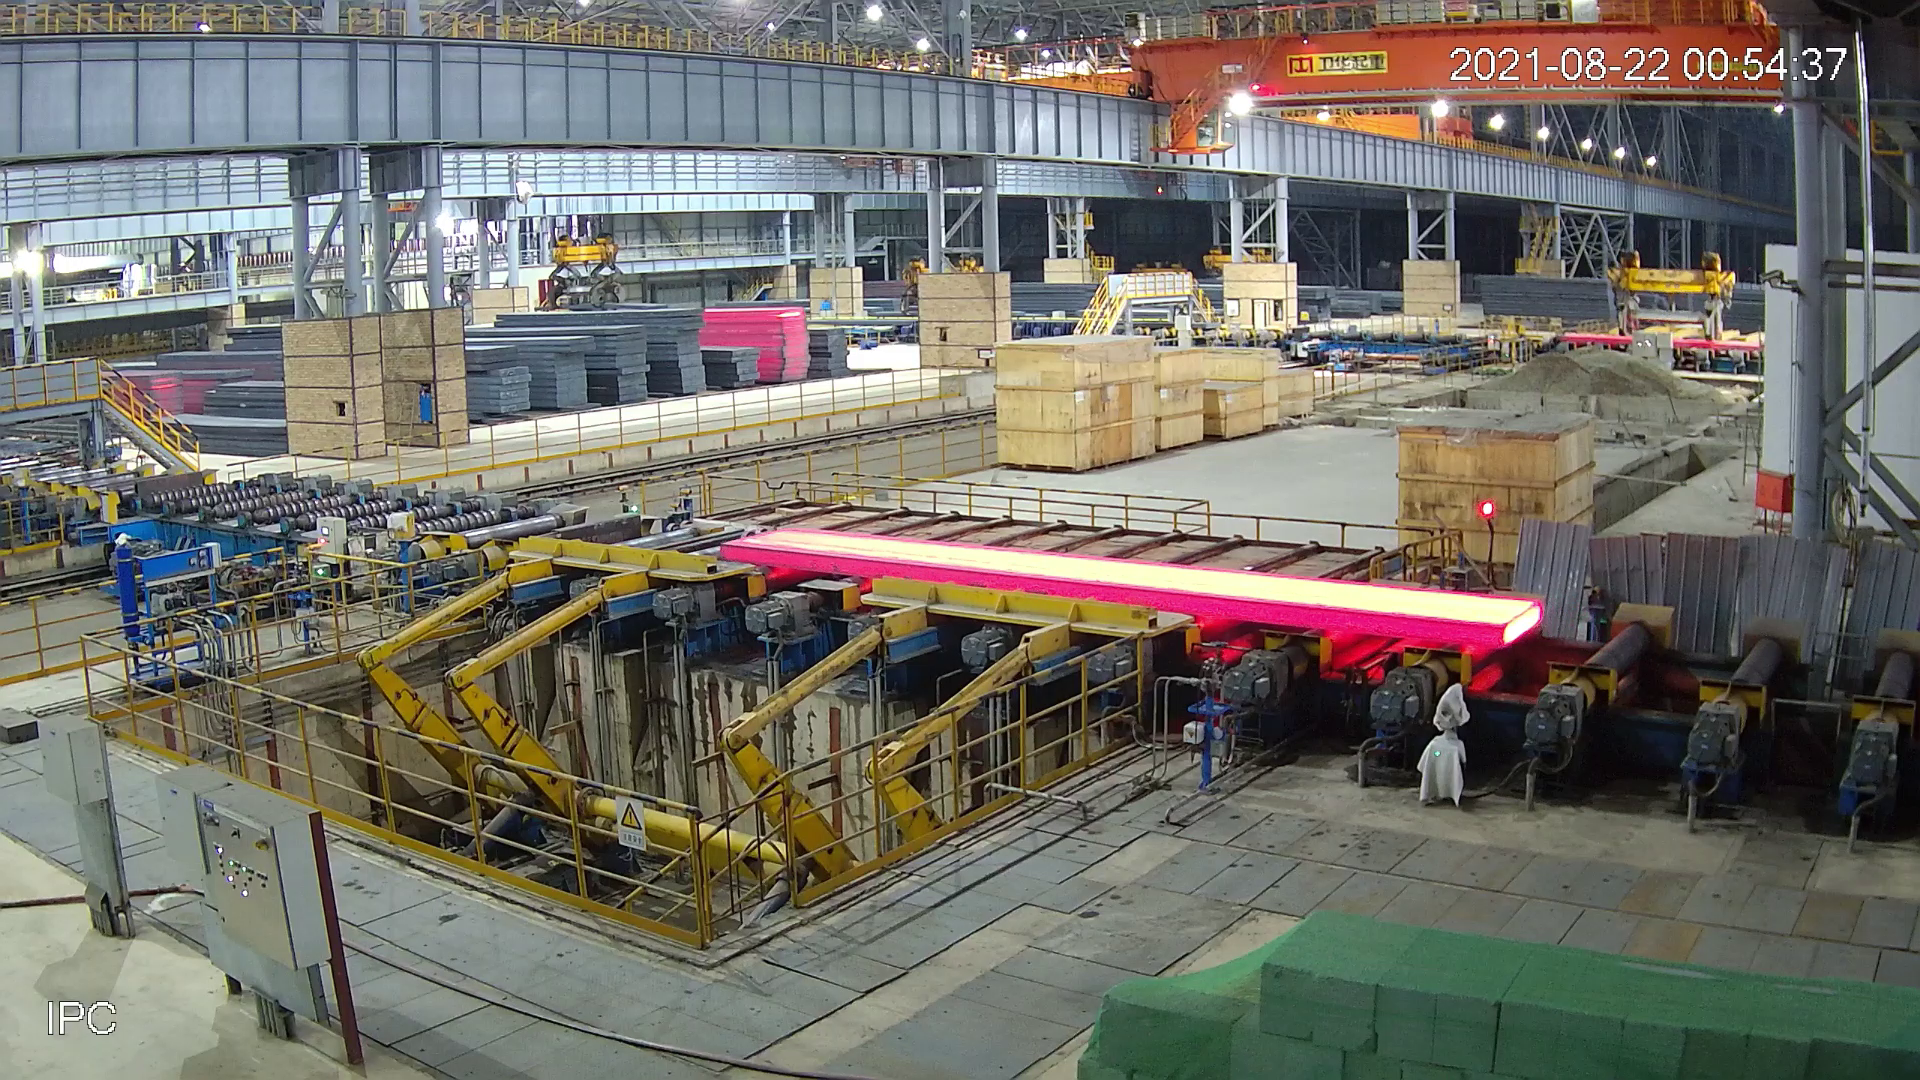slab: (712, 524, 1545, 653)
